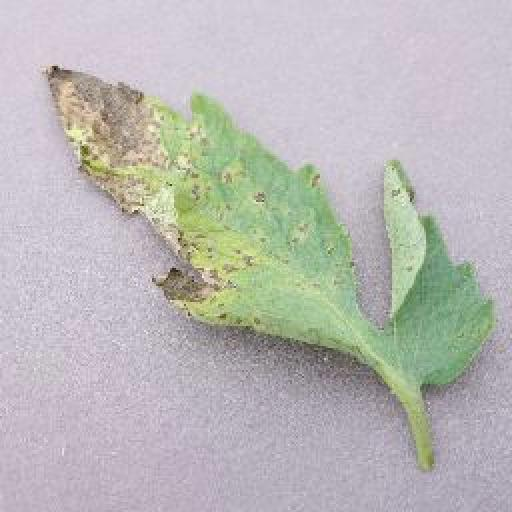disease_tomato: (50, 62, 492, 392)
